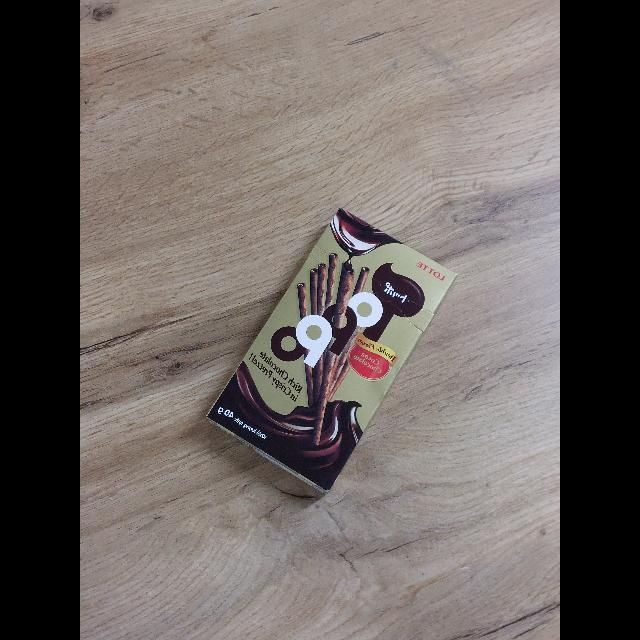banh_toppo_socola: (207, 208, 456, 493)
